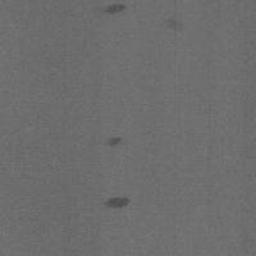Oil spot: (101, 195, 131, 209), (160, 17, 184, 33), (101, 1, 127, 15), (104, 134, 124, 147)
